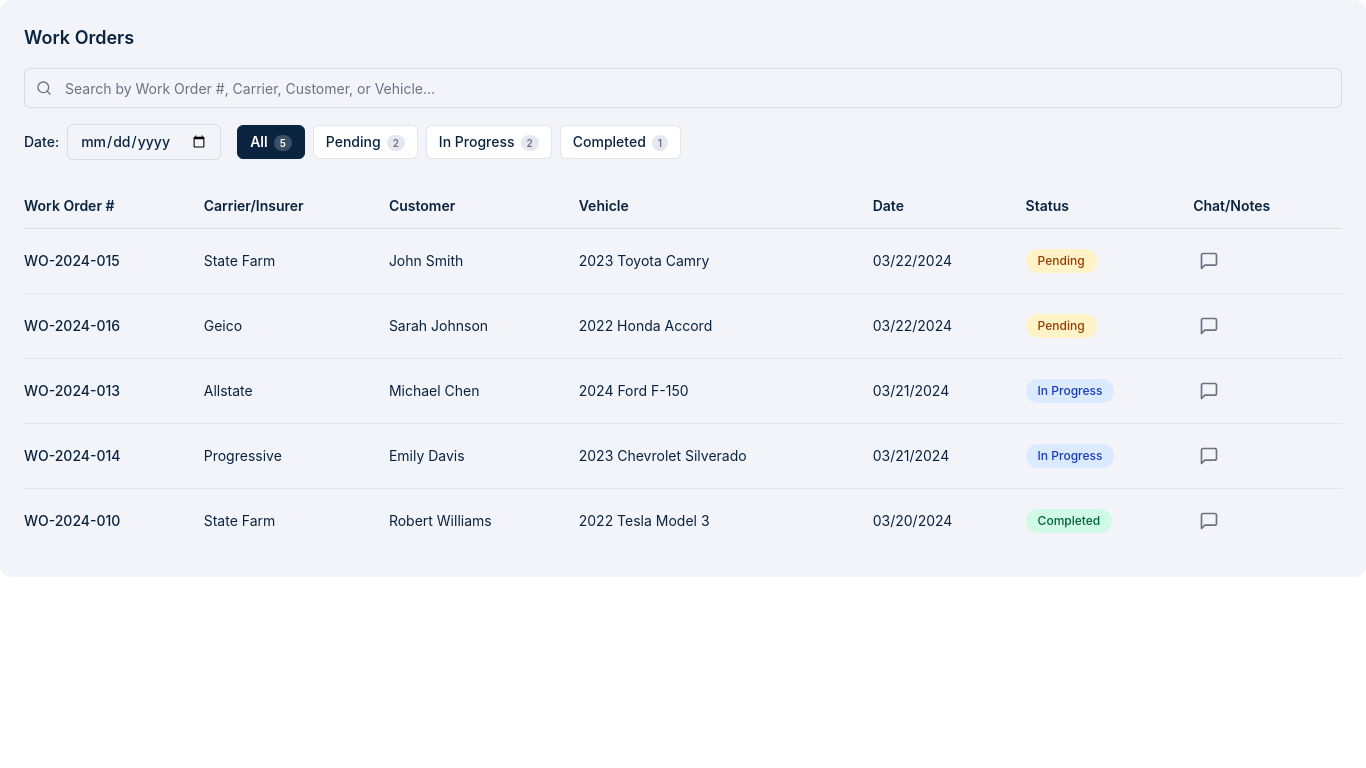
it: WorkOrdersTable › filters by status when a pill is clicked
This screenshot has width=1366, height=768.
Click the tab "Completed1".
click(620, 142)  # box [560,125,681,159]
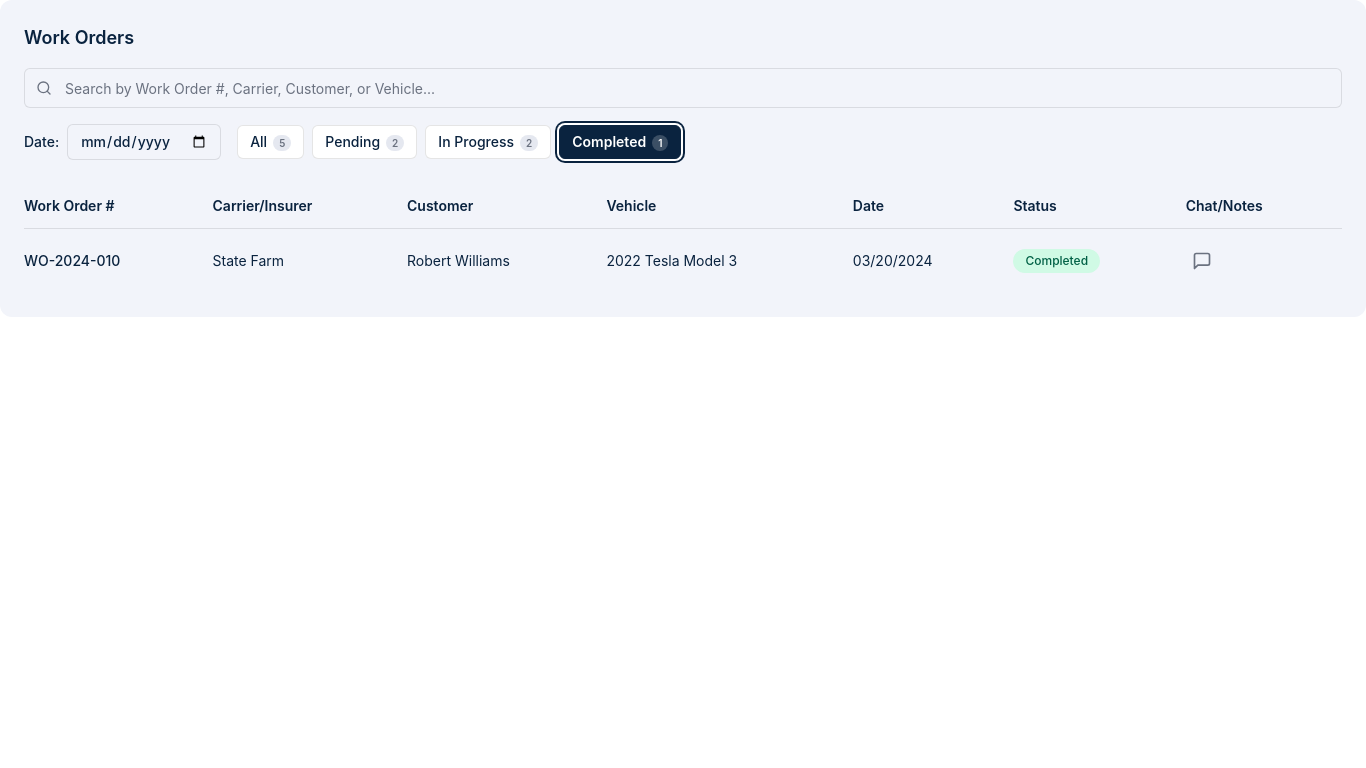
Expected: the link "WO-2024-010" is shown, [24,252,120,269]
Now the link "WO-2024-015" is gone
